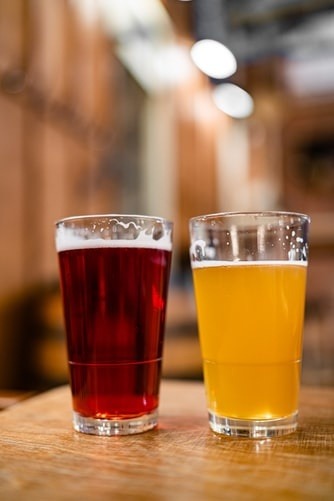whiskey: (65, 211, 177, 433), (195, 217, 307, 439)
